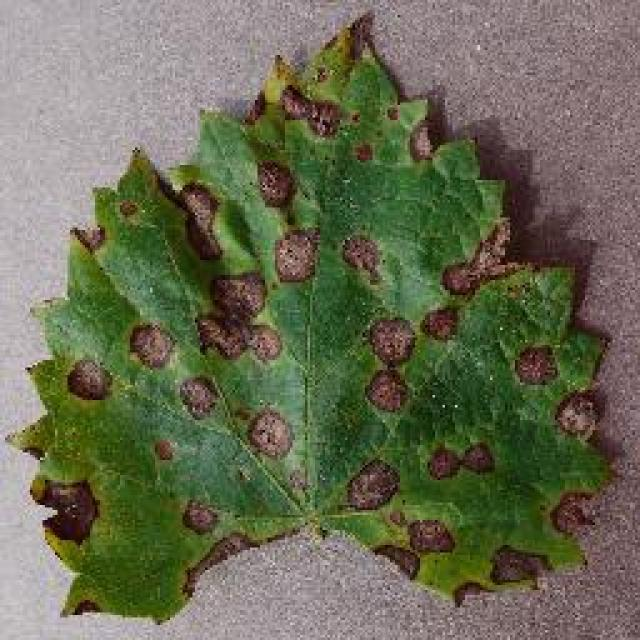Grape___Black_rot: (2, 13, 625, 630)
